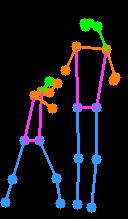normal: (59, 11, 127, 216), (1, 69, 69, 213)
